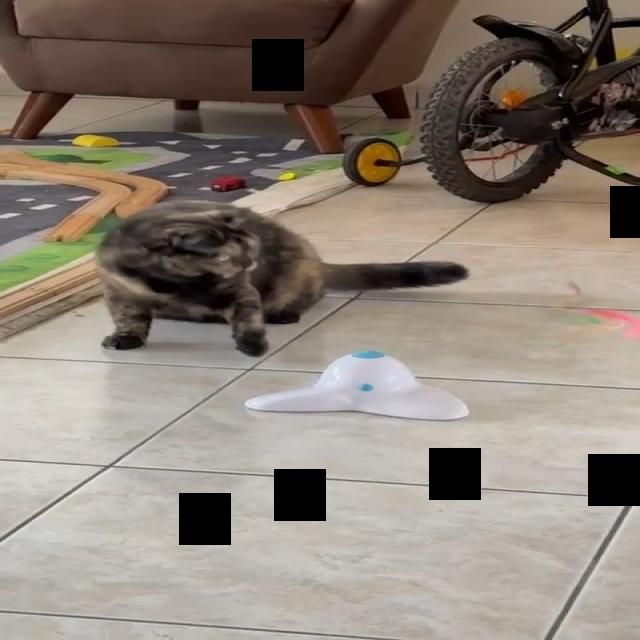authorized: (93, 198, 470, 357)
